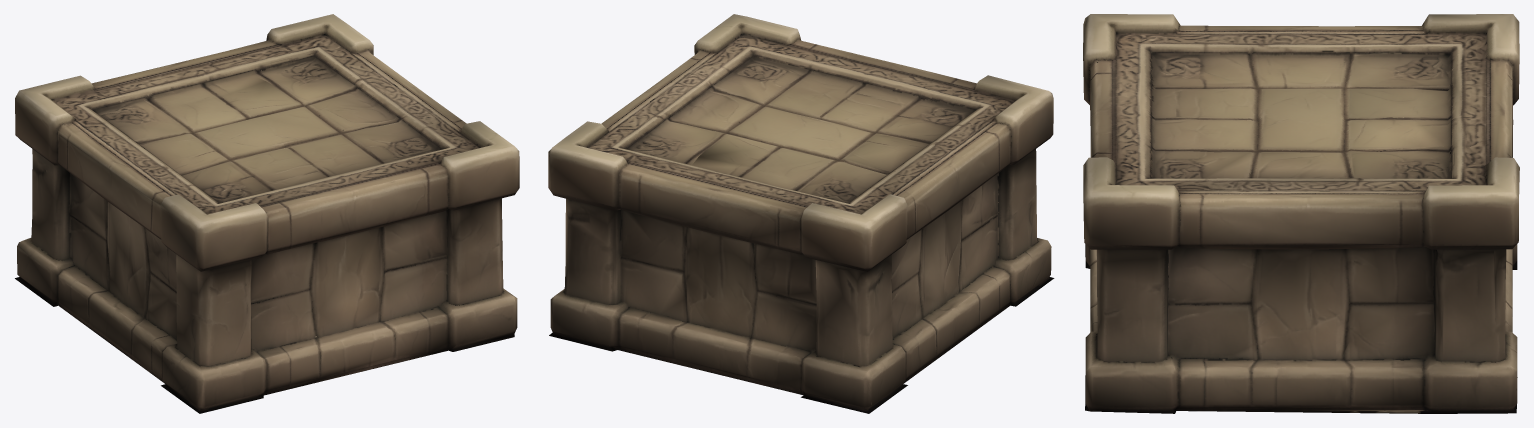
File: PlatformSand.fbx
3 views of the same model, side by side, from view 1: azimuth 30°, elevation 25°; view 2: azimuth 150°, elevation 25°; view 3: azimuth 270°, elevation 25° (orthographic). The views are drawn at different scales.
Parts seen in each view (by area): view 1: PlatformSand; view 2: PlatformSand; view 3: PlatformSand.
Boxes of the visible parts, left/top/right/bottom form: PlatformSand: left=15, top=14, right=519, bottom=413; PlatformSand: left=548, top=14, right=1054, bottom=413; PlatformSand: left=1083, top=14, right=1519, bottom=413.
Bounding box in the file's own units: 0.9941 × 0.5514 × 0.9957.
